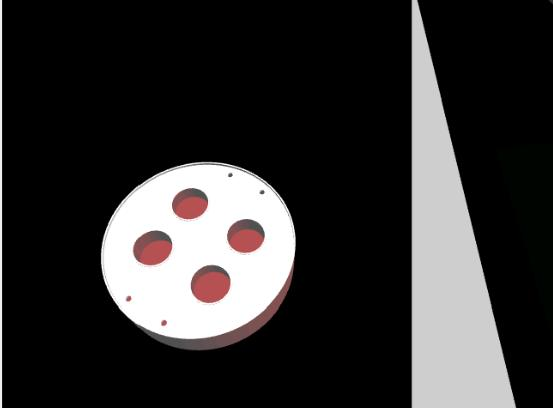hole: (128, 222, 180, 270), (167, 177, 216, 225), (182, 265, 239, 304), (223, 215, 272, 259)
